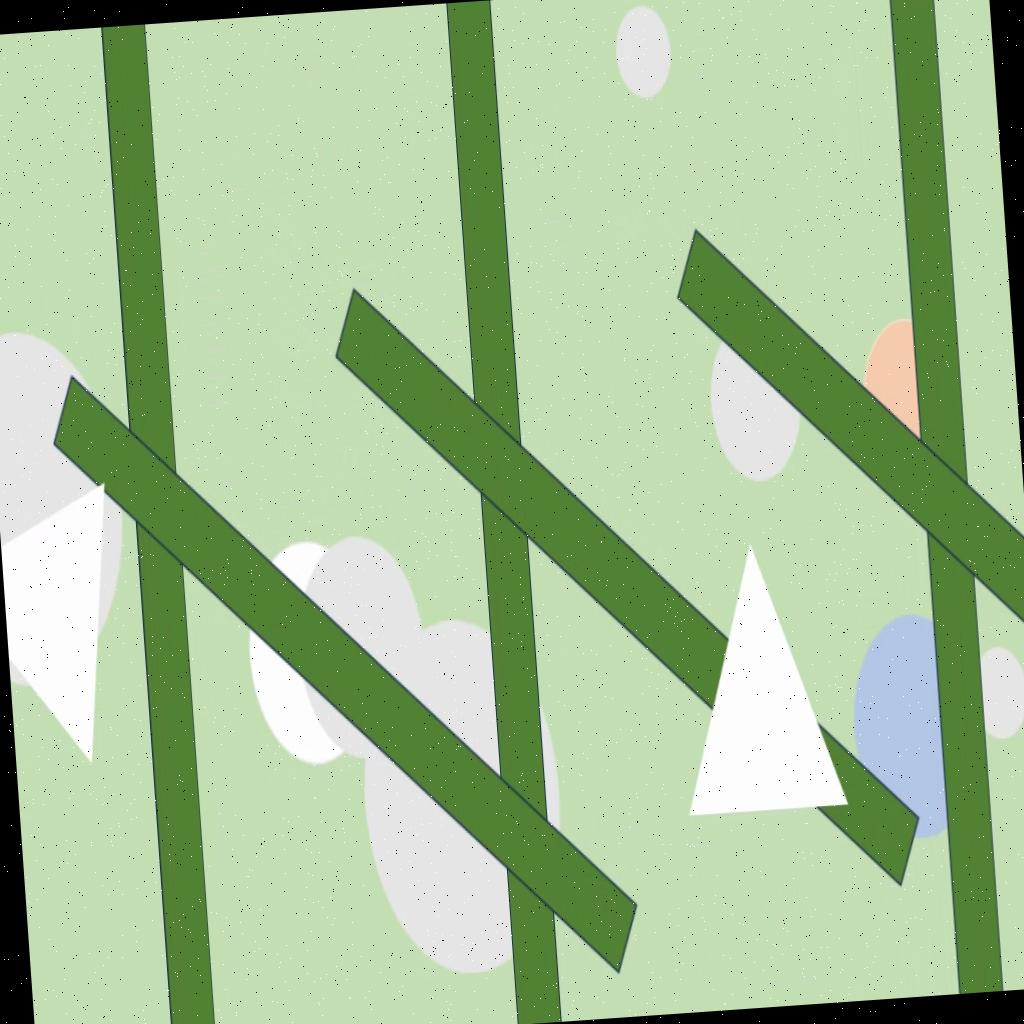Circle: (352, 614, 574, 983), (0, 317, 139, 689), (847, 607, 984, 846), (294, 534, 432, 758), (242, 539, 371, 770), (860, 312, 958, 480), (708, 318, 806, 486), (612, 1, 674, 101), (968, 645, 1024, 741)
